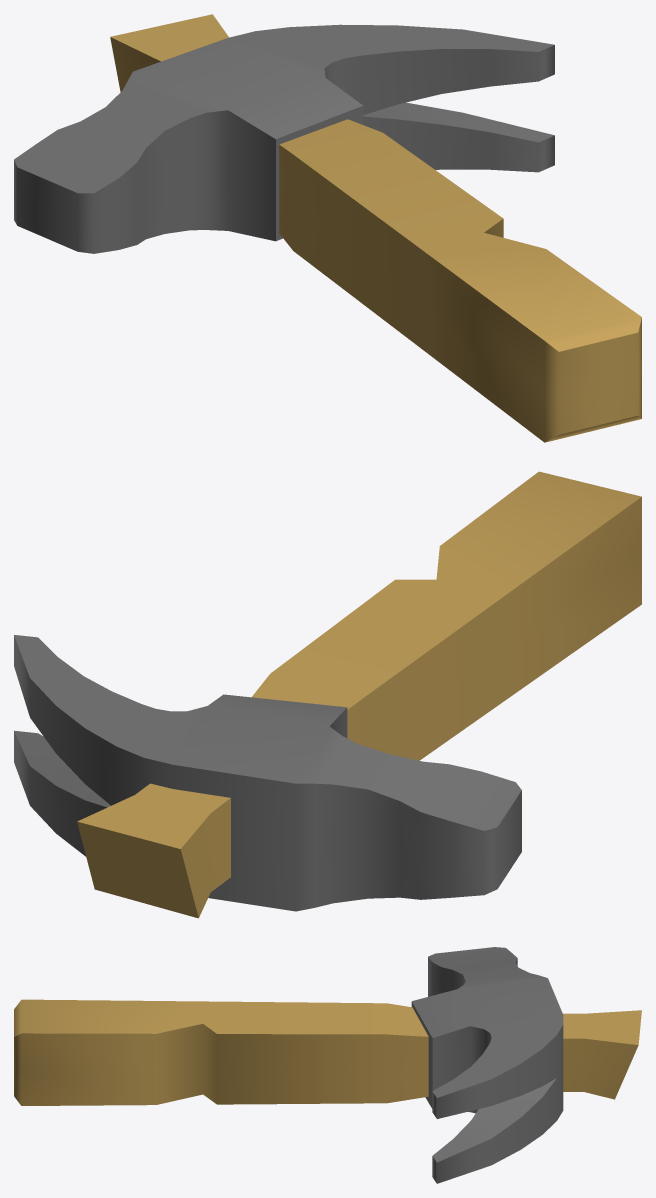
File: Martelo_Ruim.fbx
The picture shows the model from 3 angles, top to bottom: view 1: azimuth 30°, elevation 25°; view 2: azimuth 150°, elevation 25°; view 3: azimuth 270°, elevation 25°; orthographic projection. The views are drawn at different scales.
Visible parts, largest first — view 1: Martelo_Ruim; view 2: Martelo_Ruim; view 3: Martelo_Ruim.
Boxes of the visible parts, box(x1,y1,x2,y2) form: Martelo_Ruim: box(14, 14, 641, 442); Martelo_Ruim: box(14, 471, 641, 918); Martelo_Ruim: box(14, 947, 641, 1183).
Bounding box in the file's own units: 30.63 × 7.11 × 46.99.
